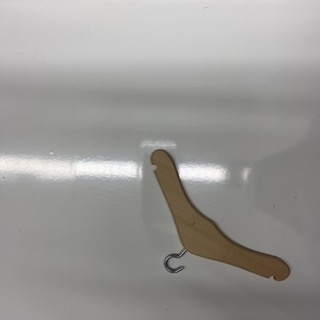rack: (151, 148, 290, 281)
